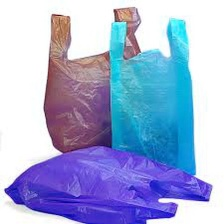plastic_bag: (3, 143, 218, 224), (38, 2, 150, 154), (106, 17, 200, 179)
